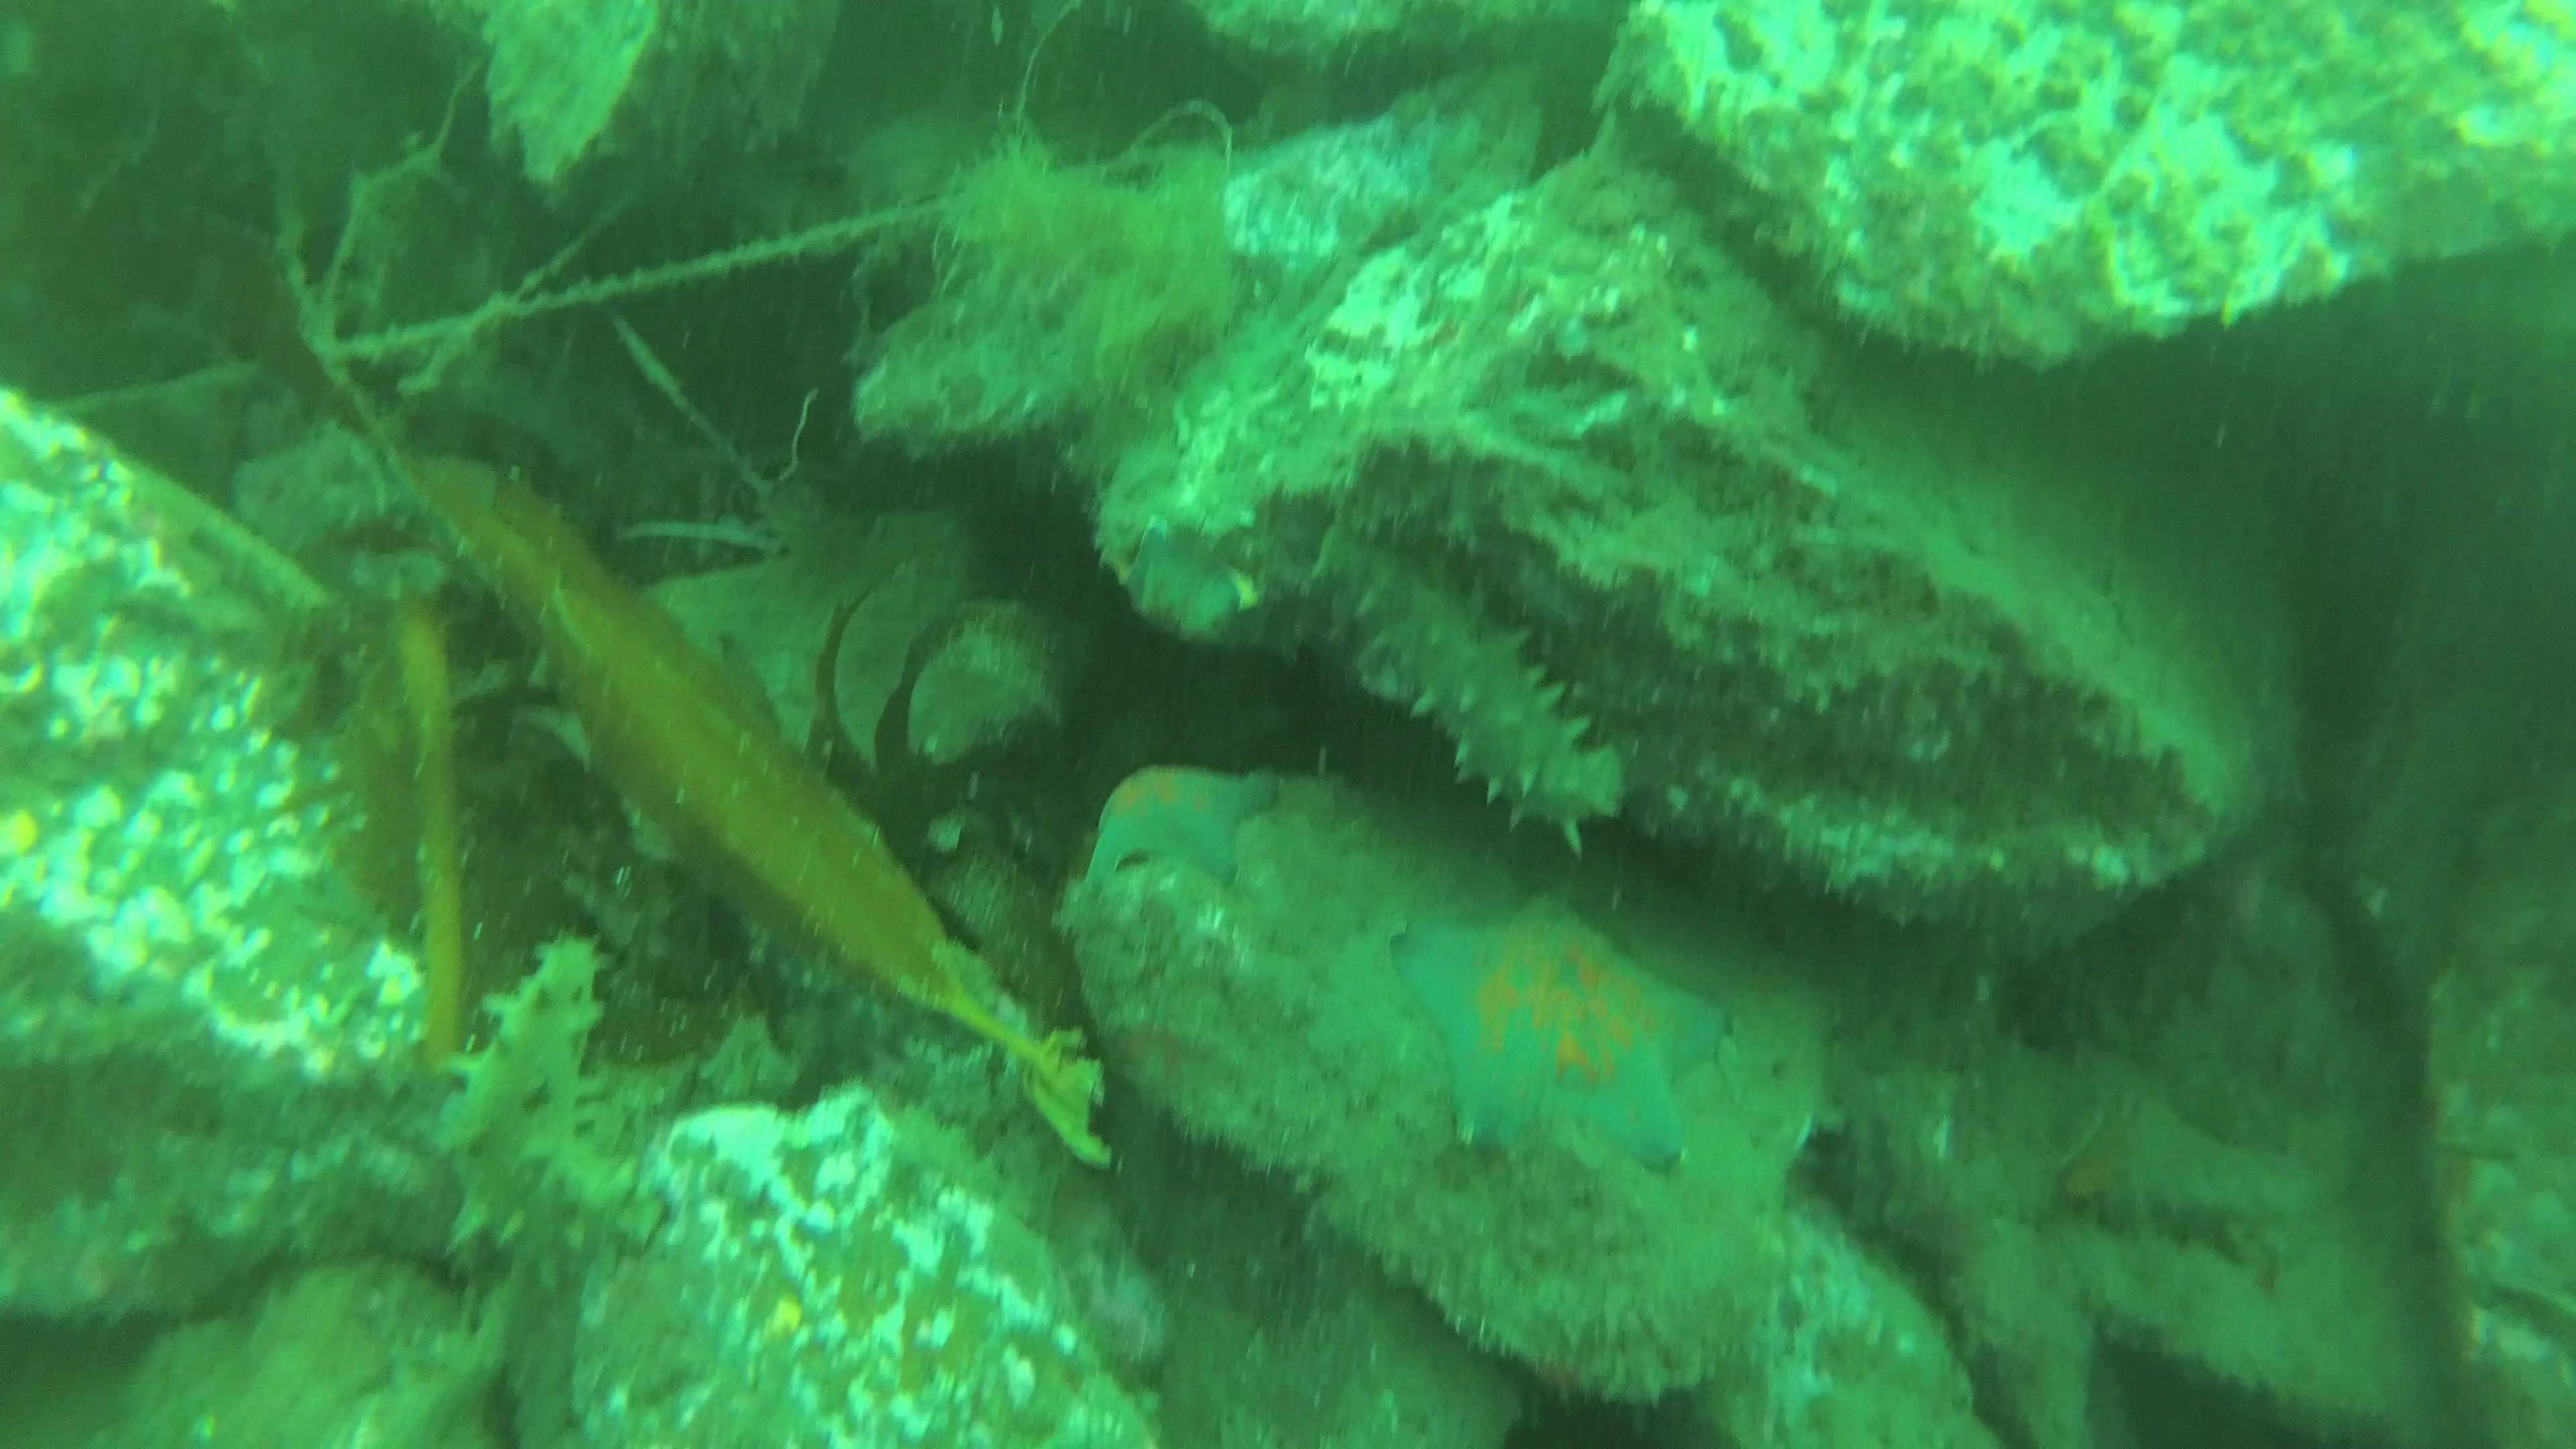holothurian: (1300, 520, 1633, 855), (425, 932, 630, 1272)
starfish: (1394, 888, 1736, 1180), (1088, 763, 1270, 883)
